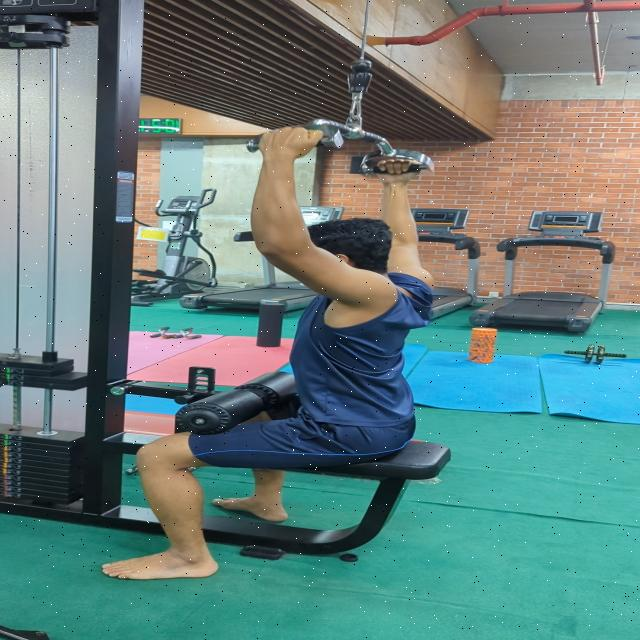Normal_LatPulldown: (77, 121, 468, 592)
